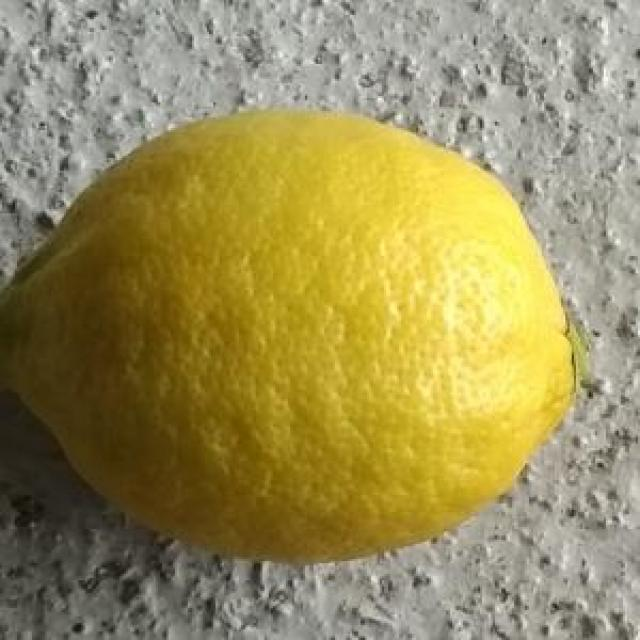lemon: (4, 103, 581, 562)
